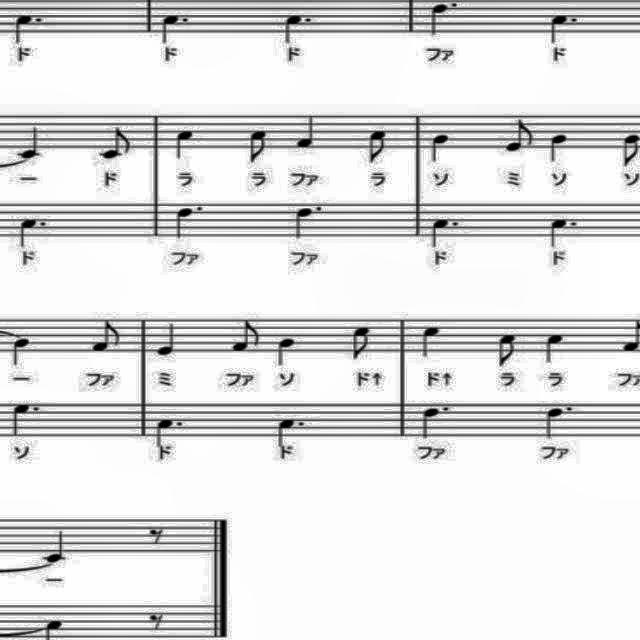Eighth-note: (86, 314, 126, 360), (96, 126, 142, 164), (502, 116, 540, 156), (361, 126, 392, 170), (244, 128, 276, 168), (230, 314, 262, 354), (351, 324, 377, 364), (493, 332, 521, 368), (620, 131, 640, 171)
Eighth-rest: (144, 520, 168, 548), (148, 608, 168, 634)
Quarter-dot: (168, 198, 214, 242), (532, 399, 574, 441), (285, 202, 327, 242), (6, 396, 44, 440), (419, 401, 457, 444), (17, 214, 55, 253), (427, 0, 465, 38), (274, 410, 310, 450), (426, 214, 466, 250), (160, 10, 196, 48), (150, 414, 186, 451), (280, 12, 320, 44), (548, 214, 580, 252), (546, 13, 580, 47), (13, 12, 44, 48)
Quarter-note: (296, 111, 324, 155), (40, 529, 72, 567), (156, 317, 184, 358), (15, 123, 45, 161), (173, 125, 201, 164), (546, 126, 572, 168), (542, 328, 570, 367), (429, 128, 455, 166), (277, 332, 299, 372), (419, 321, 441, 359), (10, 336, 34, 368)
